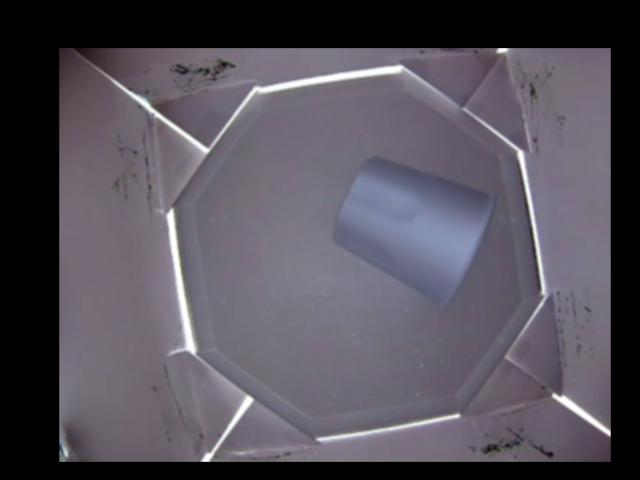Cup: (331, 155, 495, 307)
